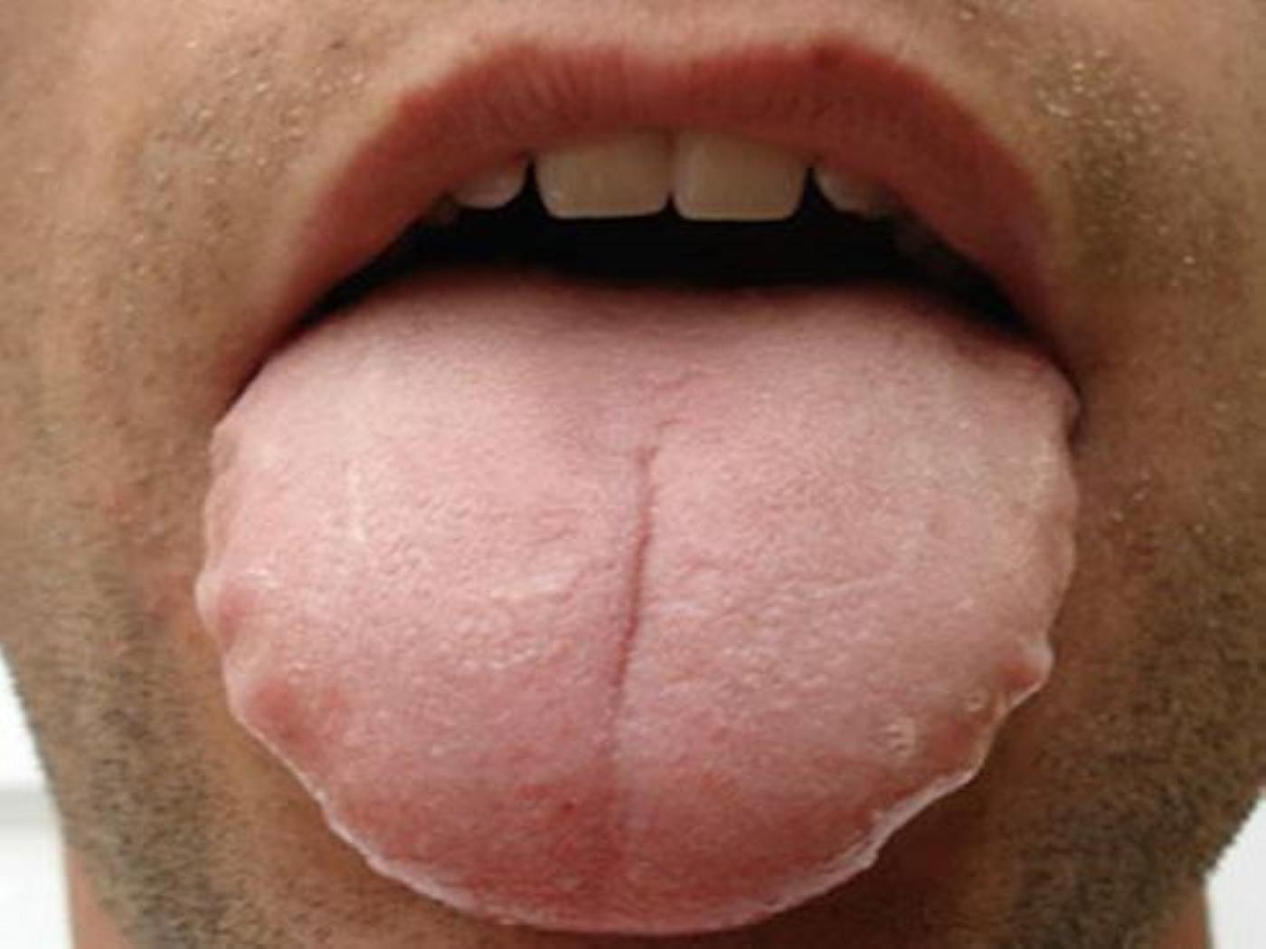baitaishe: (194, 277, 1077, 936)
chihenshe: (865, 551, 1081, 869), (197, 581, 349, 825)
pangdashe: (195, 278, 1079, 938)
